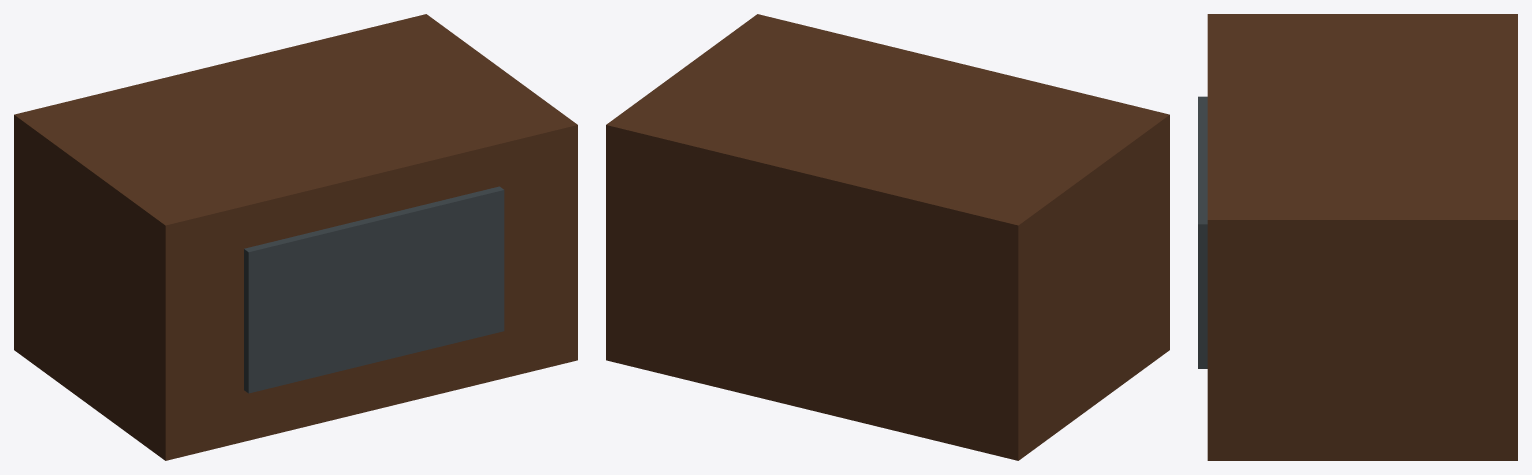
File: super-tweeter.glb
3 views of the same model, side by side, from view 1: azimuth 30°, elevation 25°; view 2: azimuth 150°, elevation 25°; view 3: azimuth 270°, elevation 25° (orthographic). The views are drawn at different scales.
Parts seen in each view (by area): view 1: Cabinet, HornFrame; view 2: Cabinet; view 3: Cabinet, HornFrame.
Part boxes in pixels (<box>): Cabinet: <box>14,14,577,460</box>; HornFrame: <box>244,186,504,393</box>; Cabinet: <box>606,14,1169,460</box>; Cabinet: <box>1207,14,1517,460</box>; HornFrame: <box>1198,96,1207,368</box>.
Bounding box in the file's own units: 0.44 × 0.24 × 0.2888.
